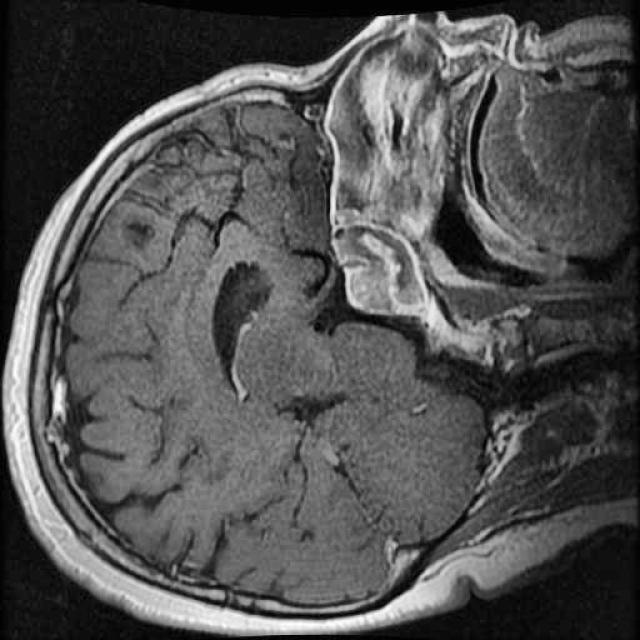Tumor: (330, 254, 416, 326)
